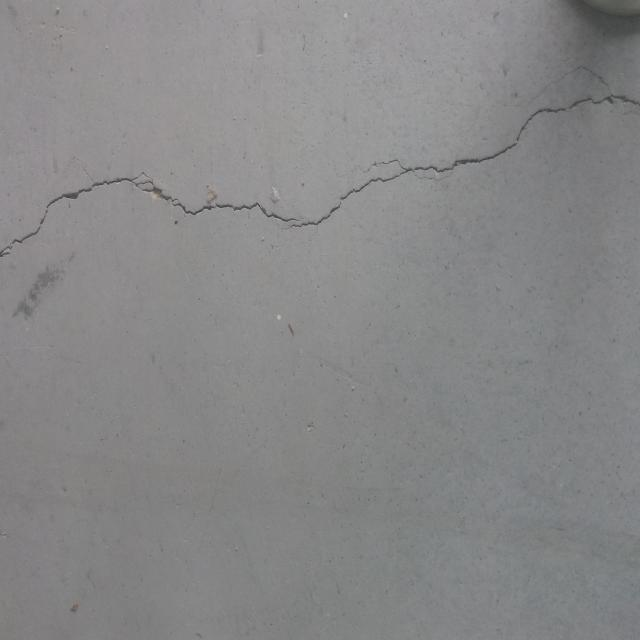SurfaceCrack: (2, 63, 640, 255)
